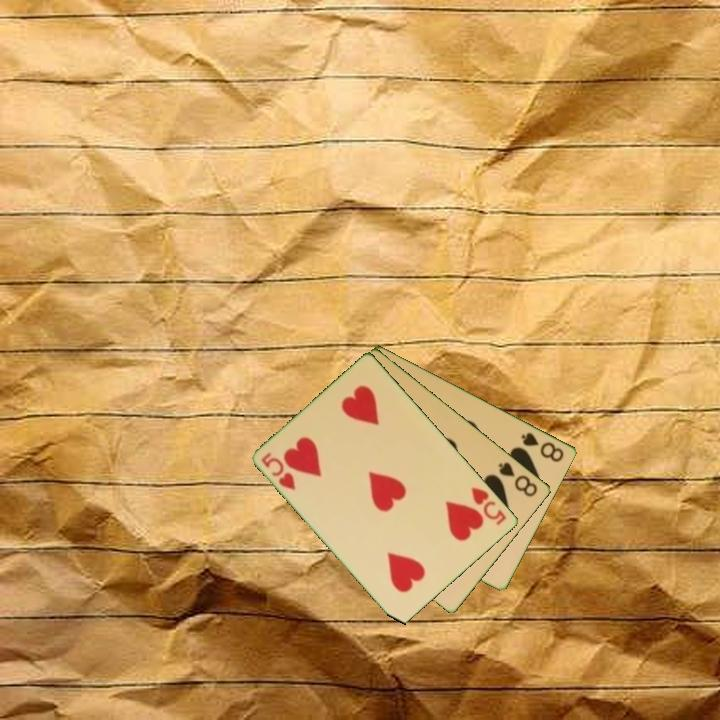5h: (468, 483, 510, 528), (258, 449, 299, 493)
8s: (495, 458, 541, 500), (518, 428, 567, 465)
